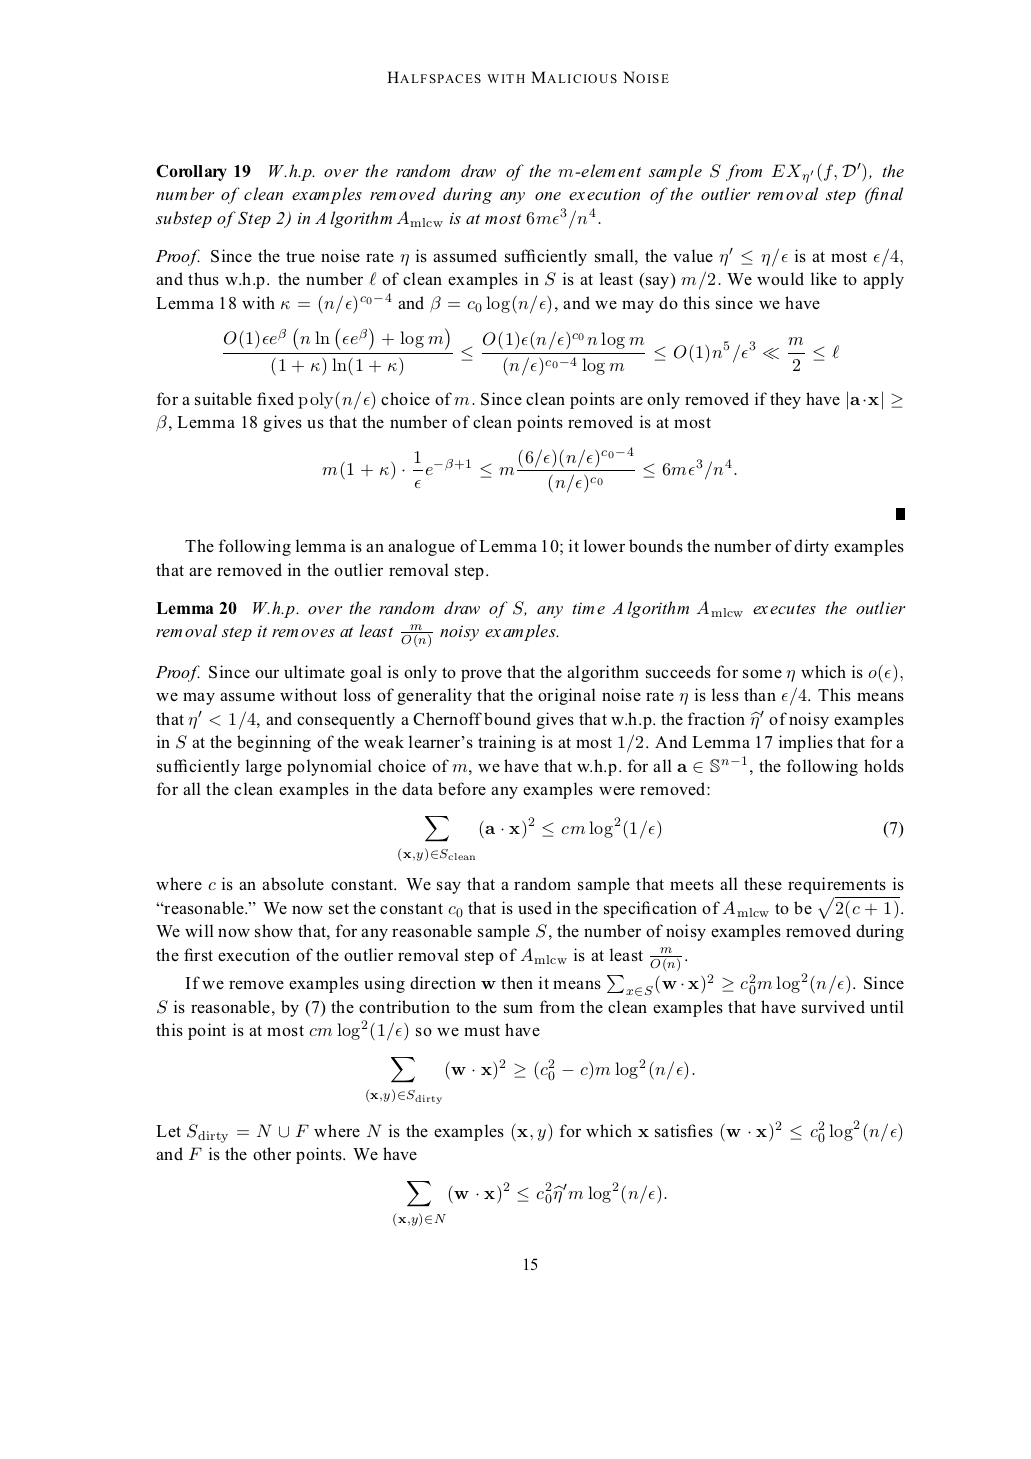formula: (223, 327, 839, 376), (398, 817, 903, 861), (322, 446, 736, 493), (366, 1057, 694, 1103), (393, 1181, 666, 1226)
